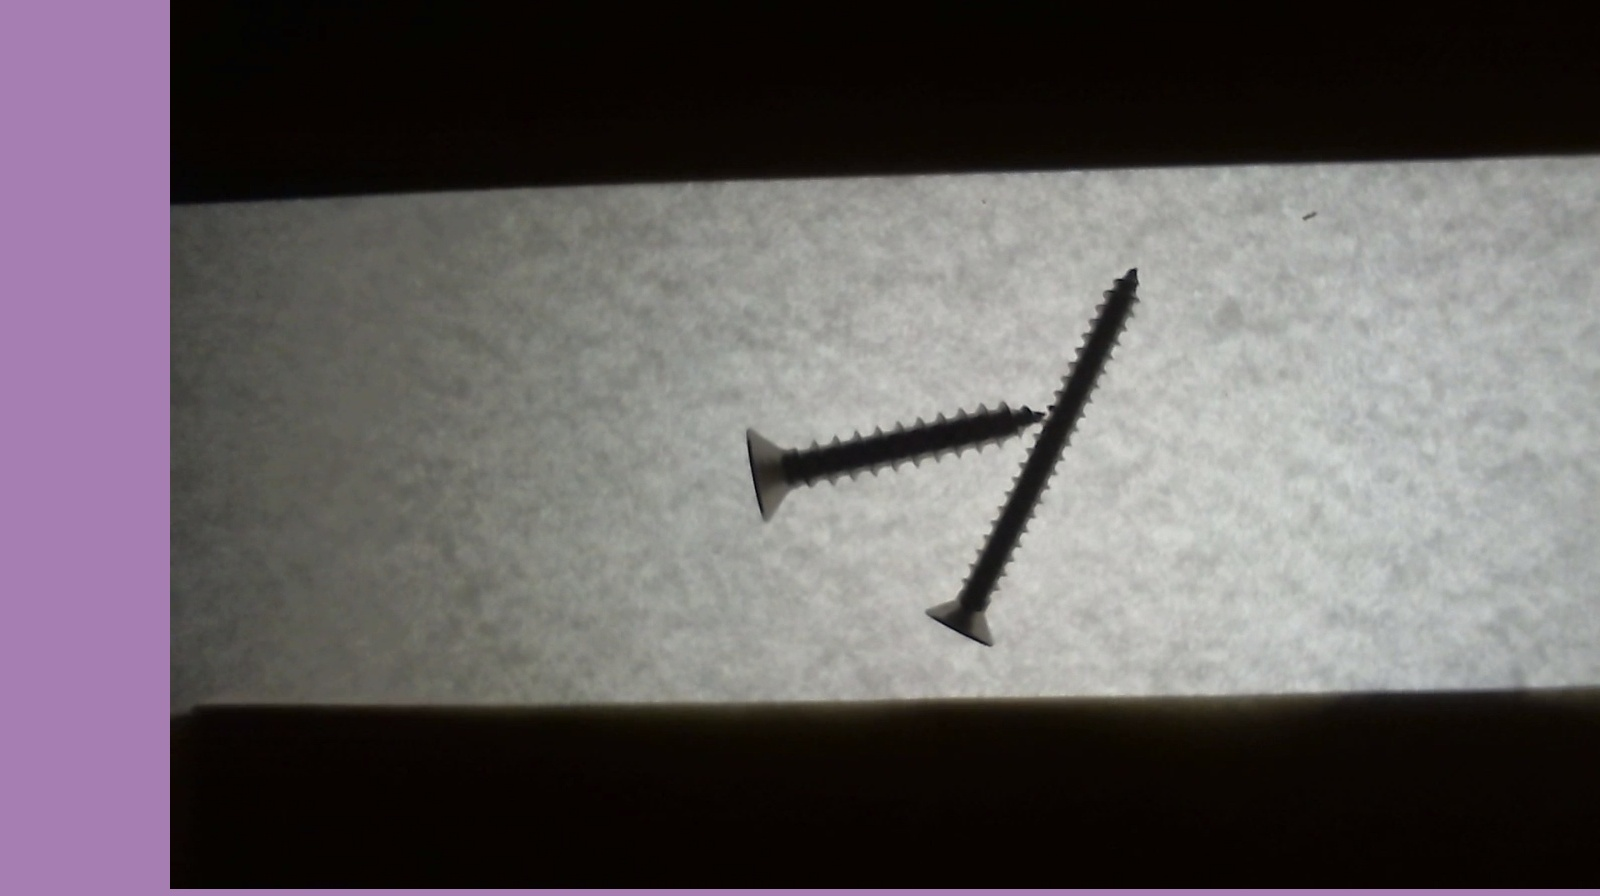S001: (727, 403, 1060, 524)
S002: (914, 261, 1144, 653)
